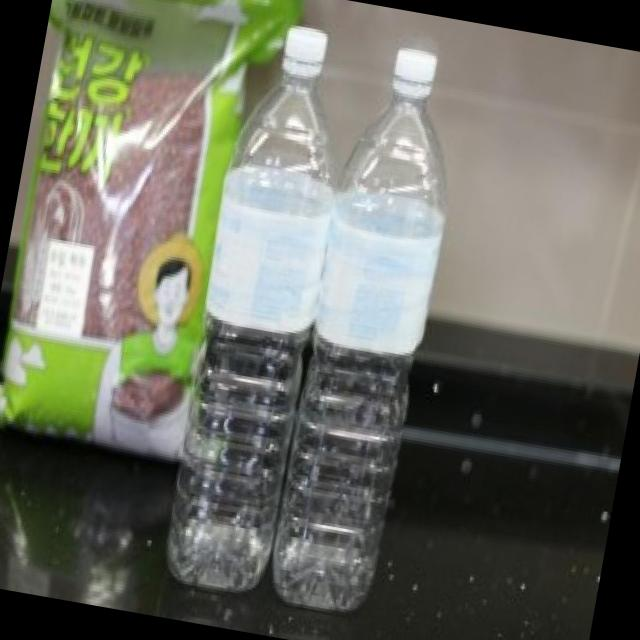plastic_bottle: (153, 18, 365, 596), (266, 40, 474, 620)
